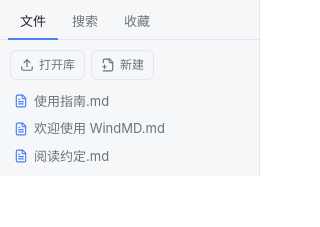
Test: Sidebar — 新建文件 › 工具栏新建按钮 → 输入名称 → 回车创建并自动打开
Step 1. Click the button titled "在库根新建文件" → (122, 64), box [91,50,154,80]
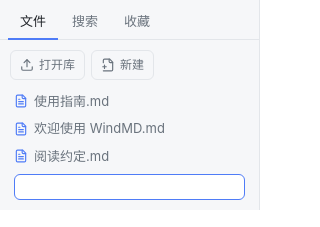
Check: the field with class "tree-name-input" is shown
Step 2. Type "树测-新文件" into the field with class "tree-name-input" → (130, 187), box [14,174,245,200]
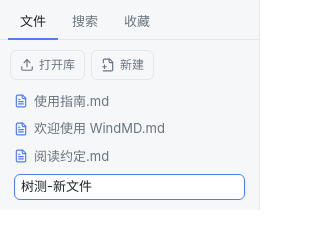
Step 3. Press Enter in the field with class "tree-name-input", box [14,174,245,200]
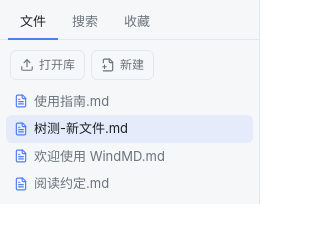
Check: the text "树测-新文件.md" is shown, box [34,120,128,136]
Check: the field with class "tree-name-input" is gone
